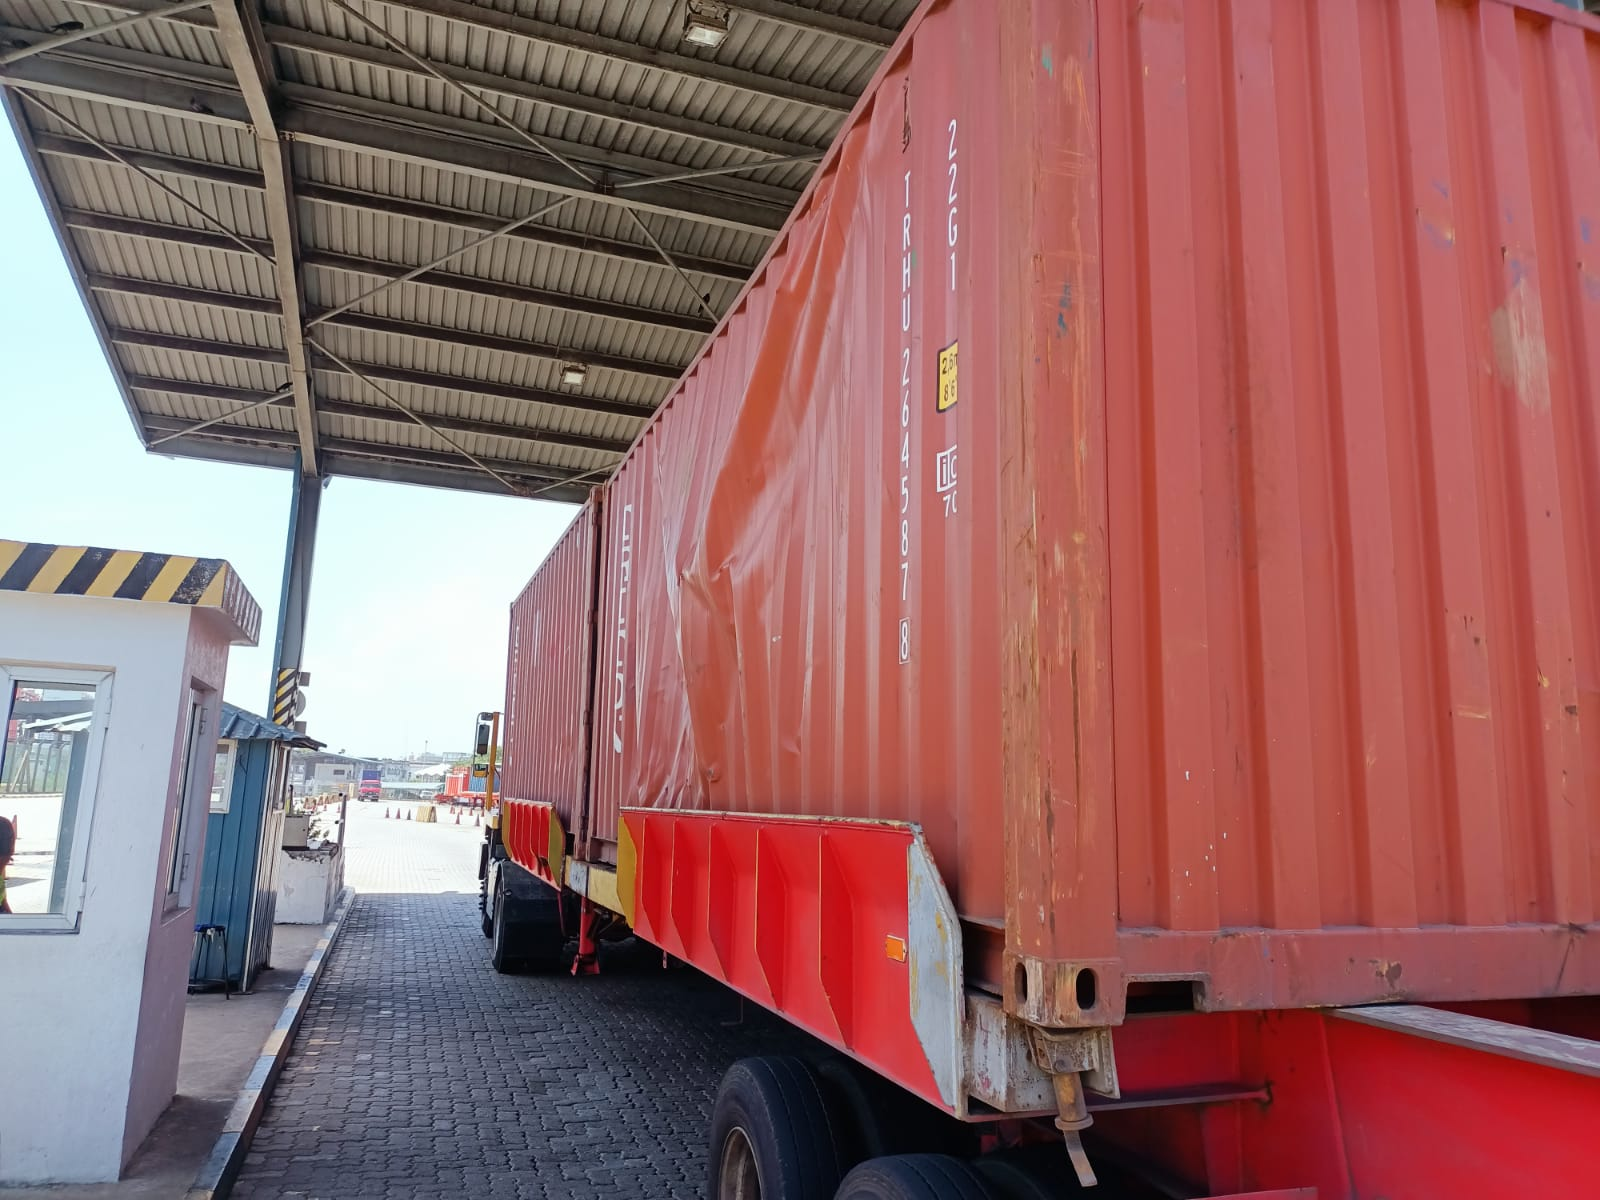bulged: (684, 126, 905, 613), (603, 609, 767, 800)
